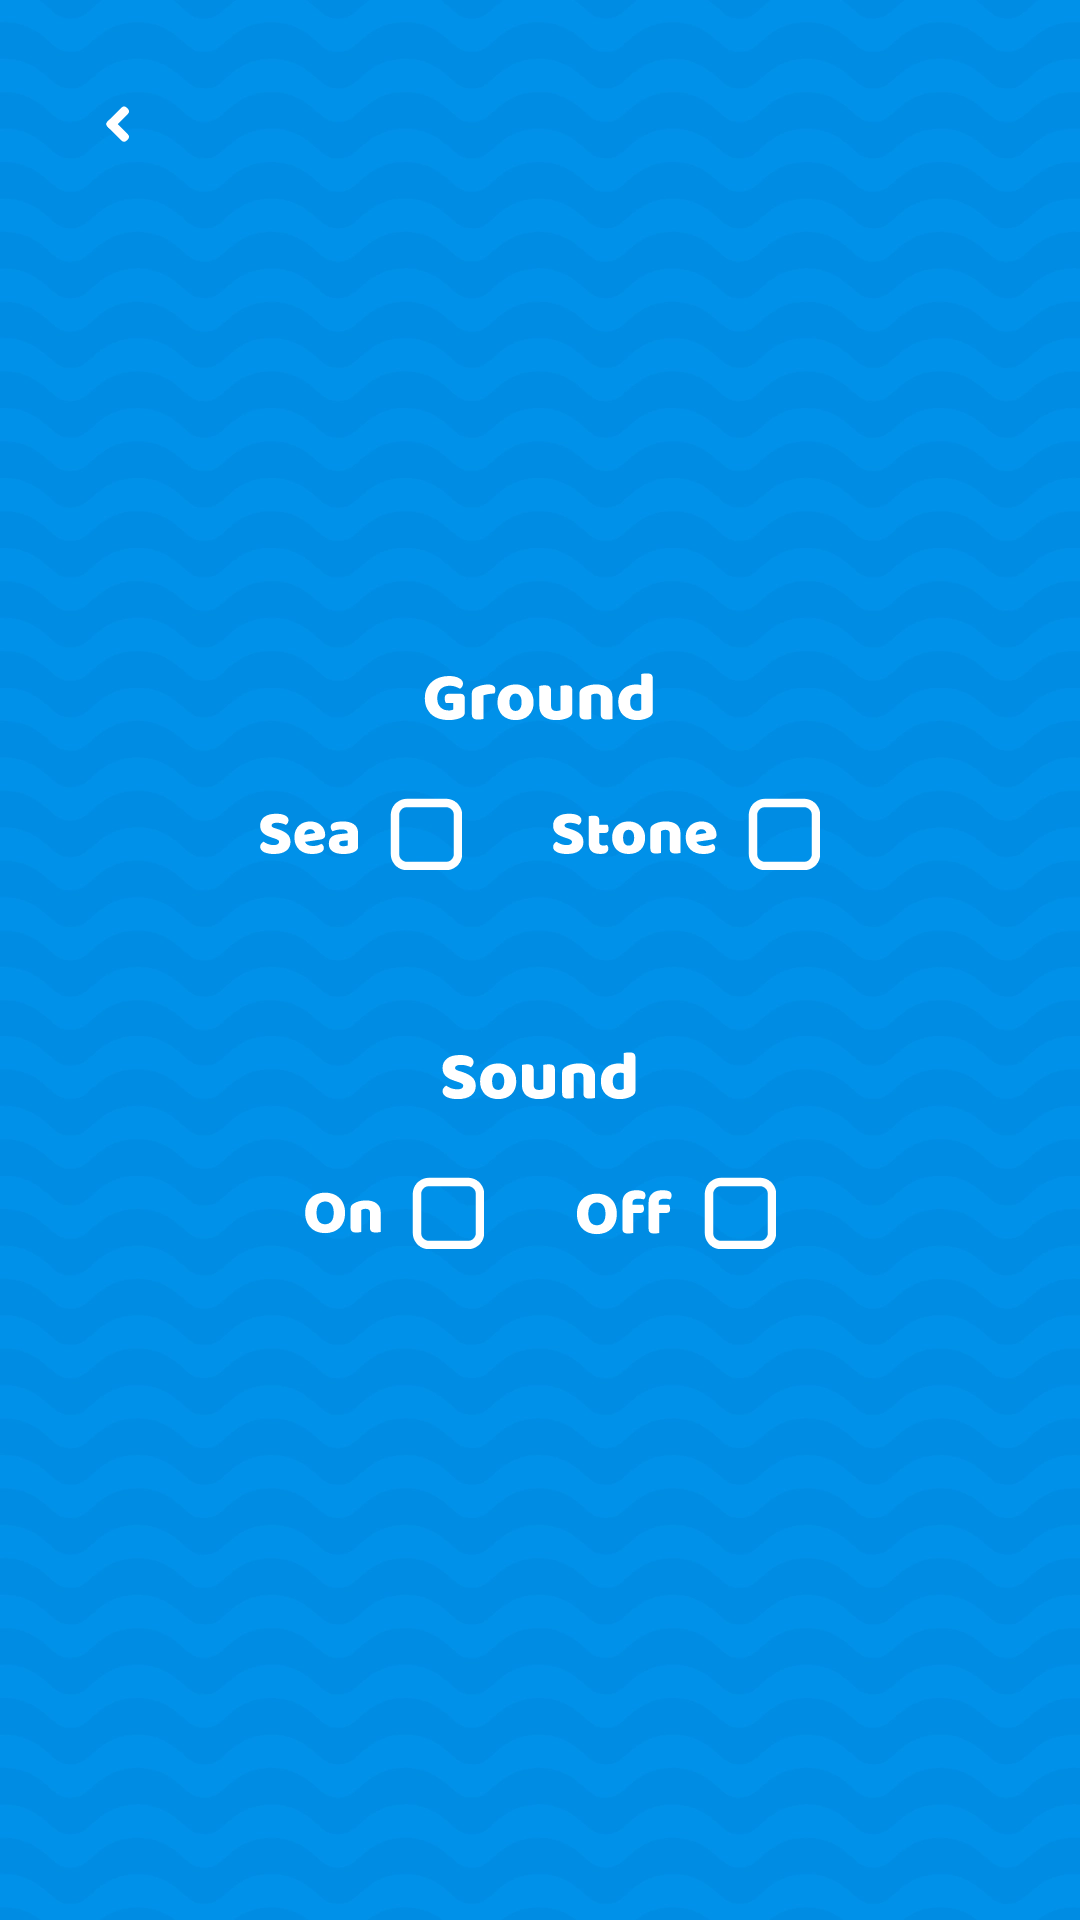

Named icons in this screenshot (1080px x 1920px) and their centers, point (x, y):
back: point (117, 124)
not selected: point (426, 834), point (784, 834), point (448, 1213), point (740, 1213)
